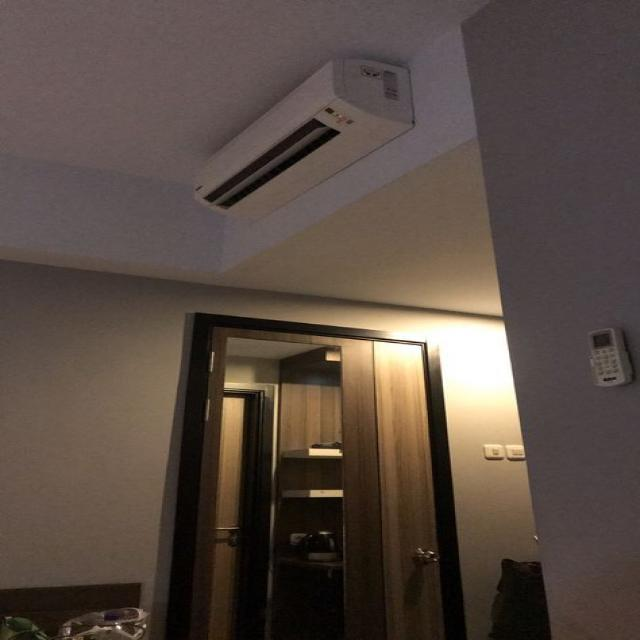AC: (191, 54, 415, 222)
